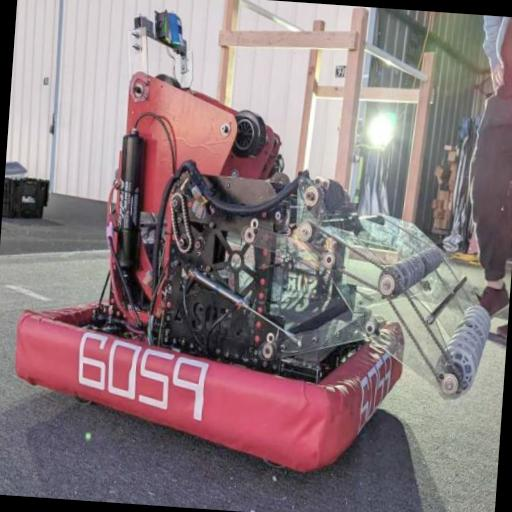robot: (5, 1, 512, 484)
